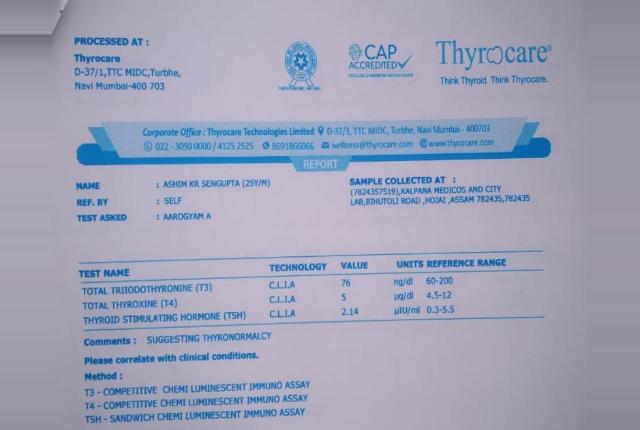Clinical_Conditions: (74, 377, 318, 430)
Name: (162, 177, 273, 189)
Ref_By: (161, 193, 189, 207)
Reference_Range: (425, 271, 461, 317)
Technology: (264, 275, 305, 323)
Test_Asked: (161, 211, 215, 223)
Test_Name: (80, 281, 247, 326)
Unit: (389, 271, 423, 319)
Value: (337, 276, 366, 320)
